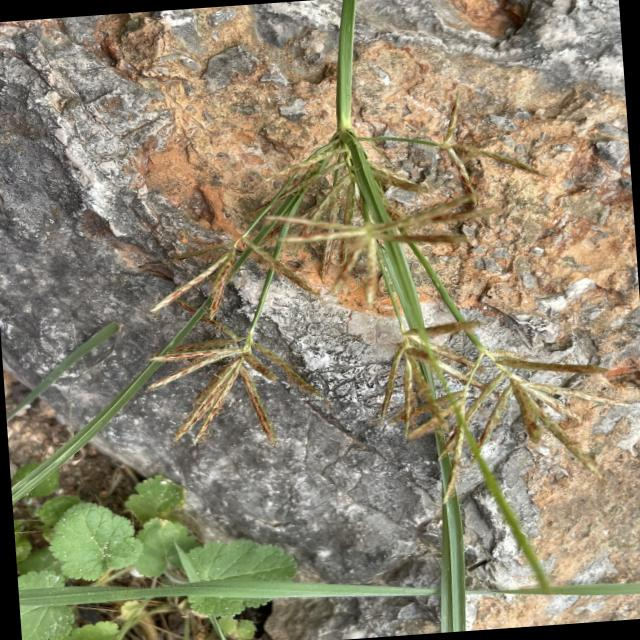cyperus: (127, 115, 640, 530)
